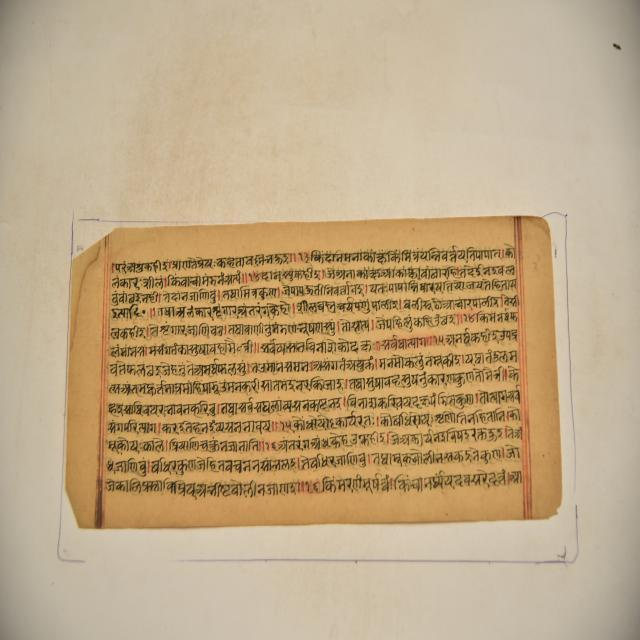text_paragraph: (69, 224, 551, 526)
